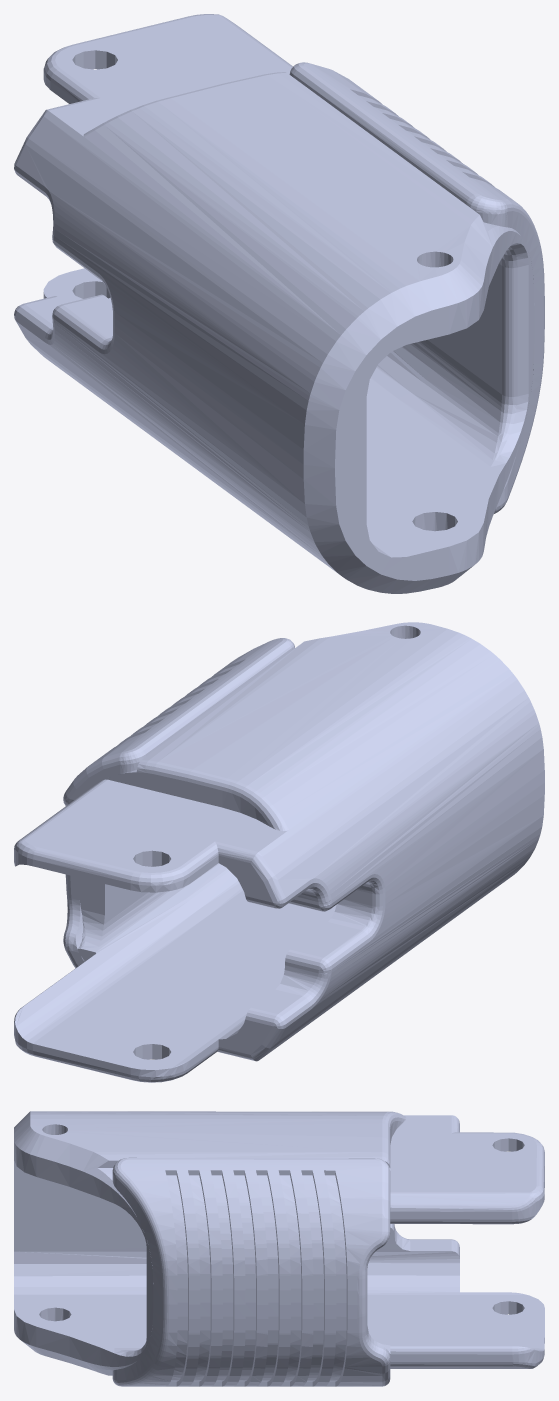
Rendered from rh_pinky_proximal_vis.obj.
3 renders of one model, top to bottom at view 1: azimuth 30°, elevation 25°; view 2: azimuth 150°, elevation 25°; view 3: azimuth 270°, elevation 25°, orthographic. The views are drawn at different scales.
Visible parts, largest first — view 1: rh_pinky_proximal; view 2: rh_pinky_proximal; view 3: rh_pinky_proximal.
Boxes of the visible parts, x1=… form: rh_pinky_proximal: x1=14, y1=14, x2=544, y2=593; rh_pinky_proximal: x1=14, y1=622, x2=544, y2=1082; rh_pinky_proximal: x1=14, y1=1111, x2=544, y2=1386.
Bounding box in the file's own units: 0.0171 × 0.0154 × 0.0328.
Materials: 1 (1 with a texture image).
